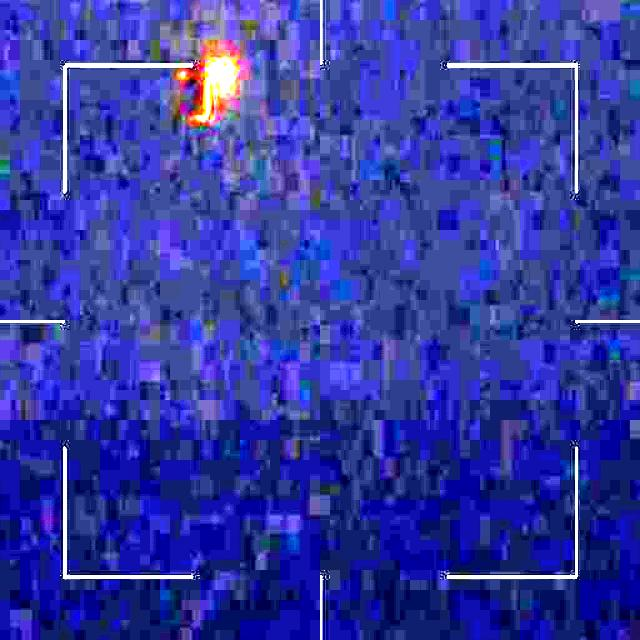bird: (169, 58, 239, 139)
